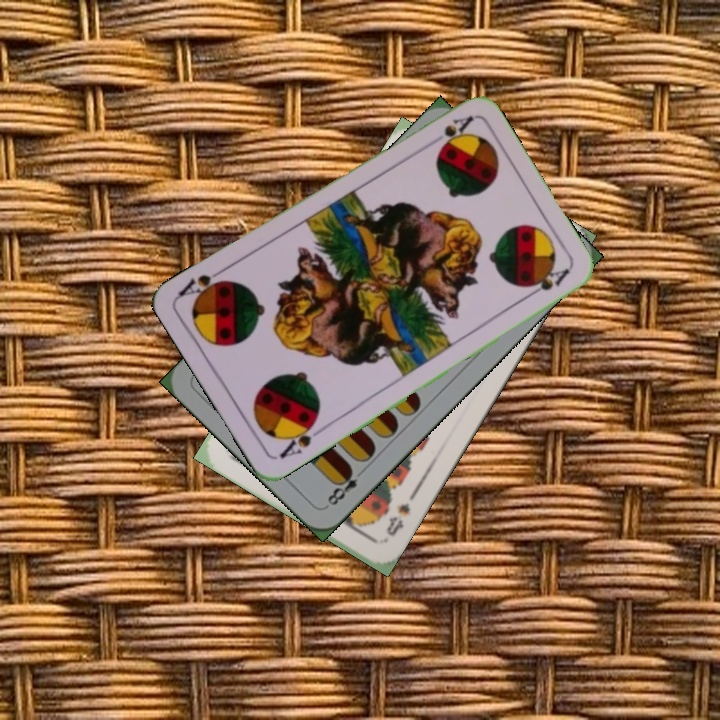E8: (322, 463, 369, 510)
S8: (382, 499, 413, 539)
SA: (275, 415, 327, 462), (434, 112, 476, 152)
